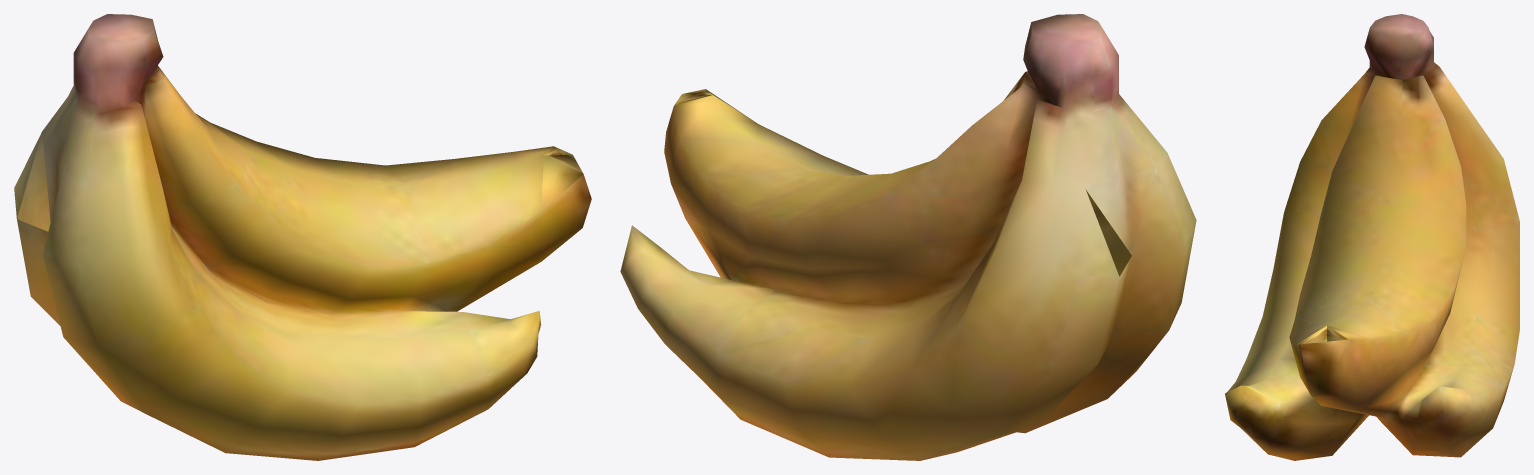
The model's file is banana.glb.
The picture shows the model from 3 angles, left to right: view 1: azimuth 30°, elevation 25°; view 2: azimuth 150°, elevation 25°; view 3: azimuth 270°, elevation 25°; orthographic projection. The views are drawn at different scales.
Visible parts, largest first — view 1: Banana; view 2: Banana; view 3: Banana.
Part boxes in pixels (box(x1,y1,x2,y2)): Banana: box(14, 14, 591, 460); Banana: box(620, 14, 1196, 460); Banana: box(1225, 14, 1519, 460).
Size of the model in its own units: 1.99 by 1.59 by 1.23.
Materials: 1 (1 with a texture image).
